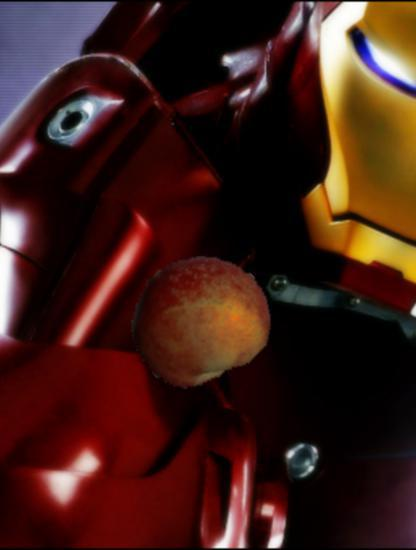Nectarine: (128, 250, 269, 391)
